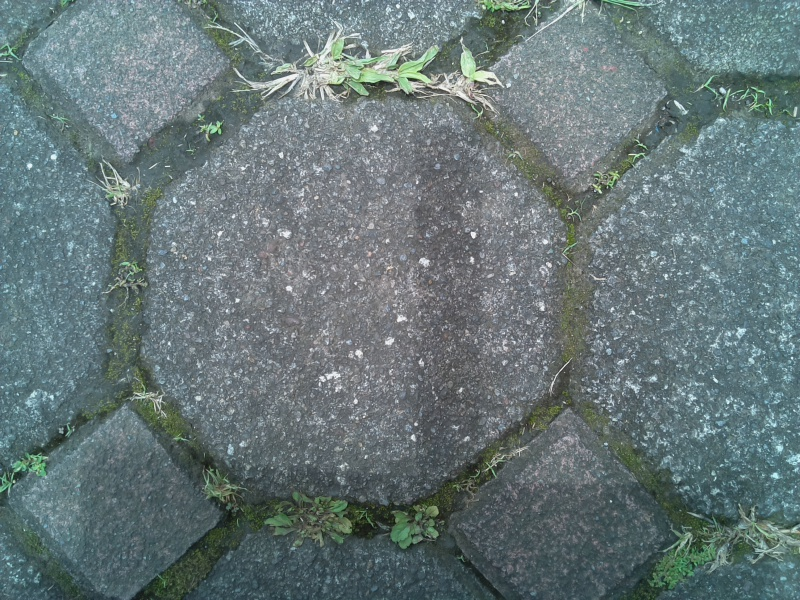Weed: (250, 47, 492, 104), (703, 508, 799, 568), (265, 494, 355, 553), (649, 536, 715, 587), (193, 465, 246, 522), (386, 501, 444, 549), (93, 159, 138, 214), (2, 448, 46, 497), (709, 81, 772, 113), (195, 116, 232, 143)
